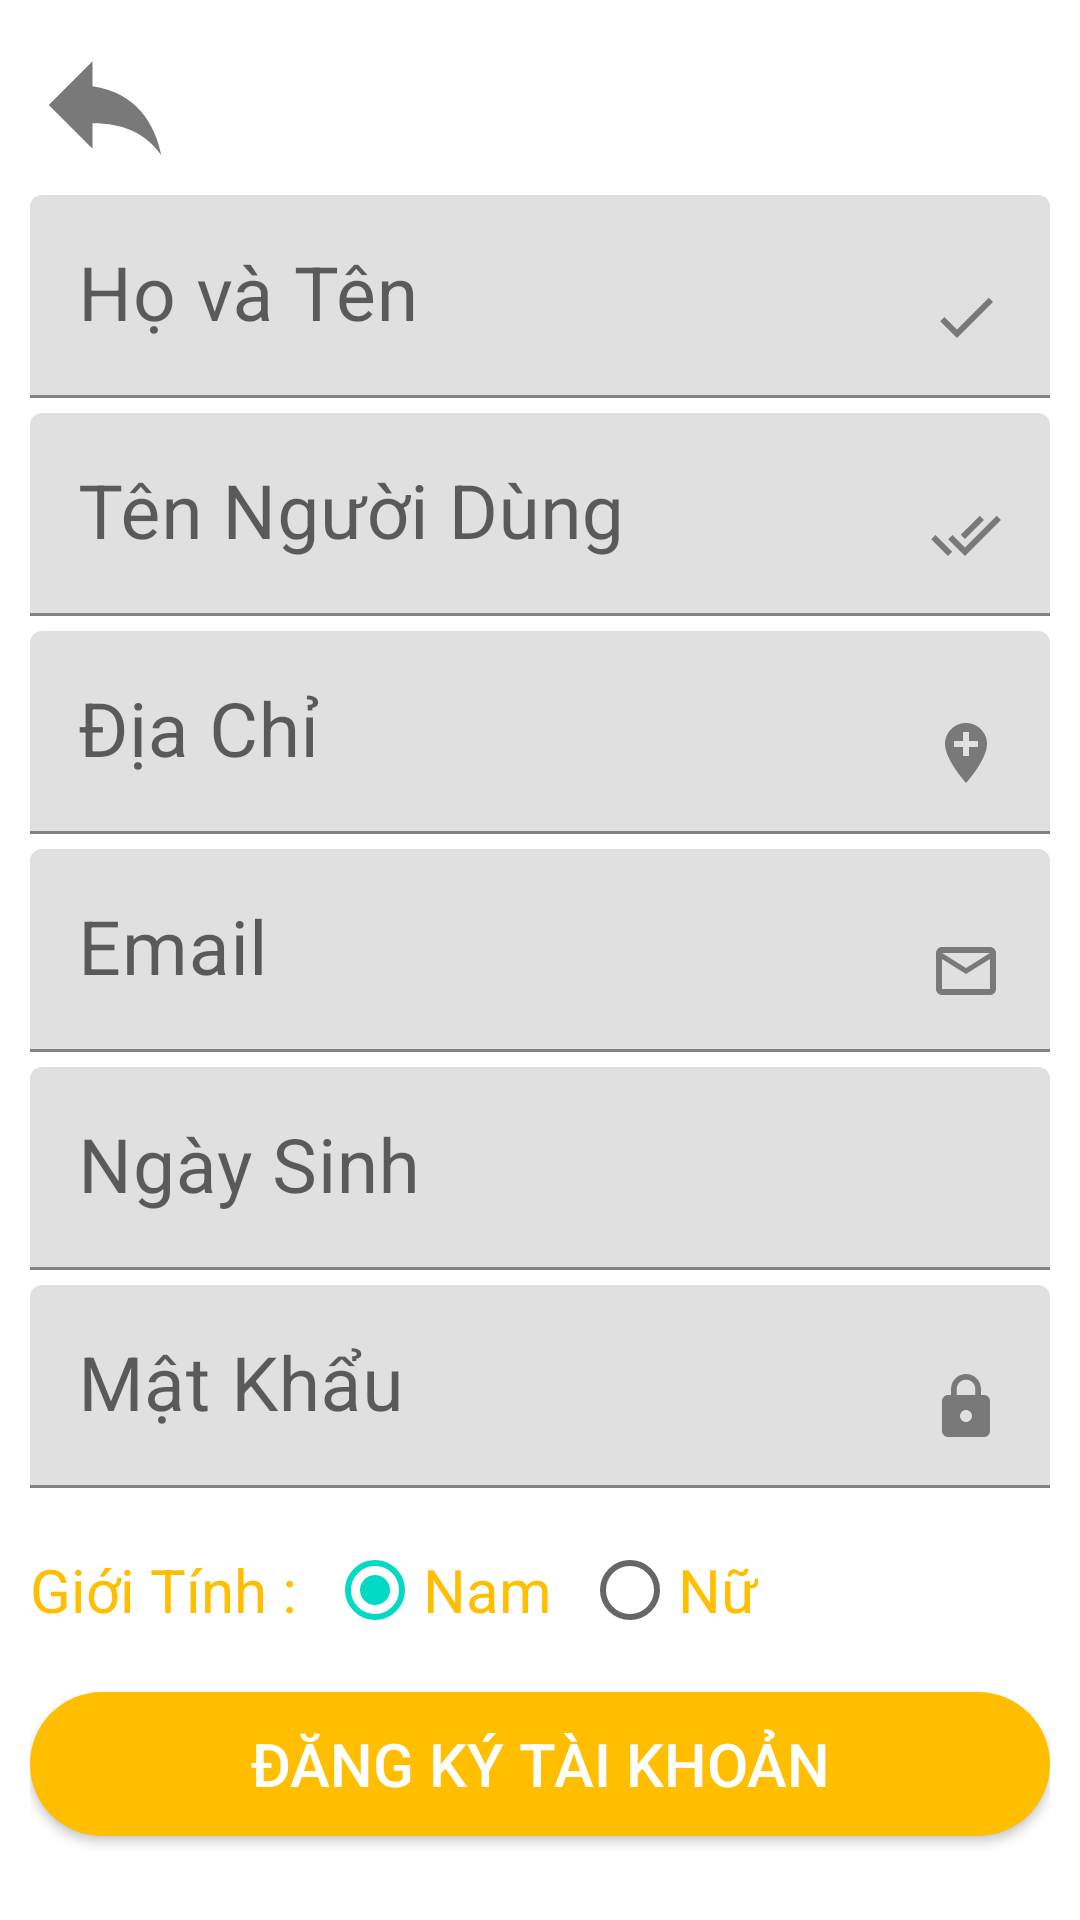

Where to tap for icons on this 1080 × 1920 app screen, as (x,y):
reply: (105,108)
